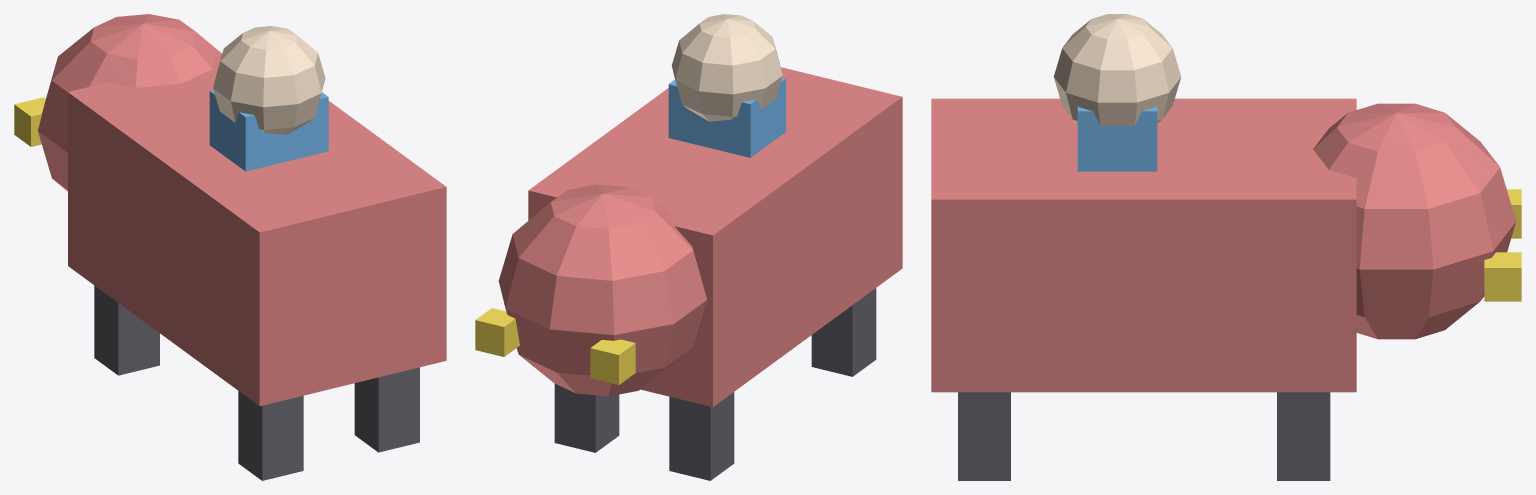
Rendered from beast.glb.
3 renders of one model, left to right at view 1: azimuth 30°, elevation 25°; view 2: azimuth 150°, elevation 25°; view 3: azimuth 270°, elevation 25°, orthographic. The views are drawn at different scales.
Parts seen in each view (by area): view 1: beast; view 2: beast; view 3: beast.
Boxes of the visible parts, left/top/right/bottom form: beast: left=14, top=14, right=446, bottom=480; beast: left=475, top=14, right=902, bottom=480; beast: left=931, top=14, right=1521, bottom=480.
Bounding box in the file's own units: 0.9 × 1.74 × 2.22.
